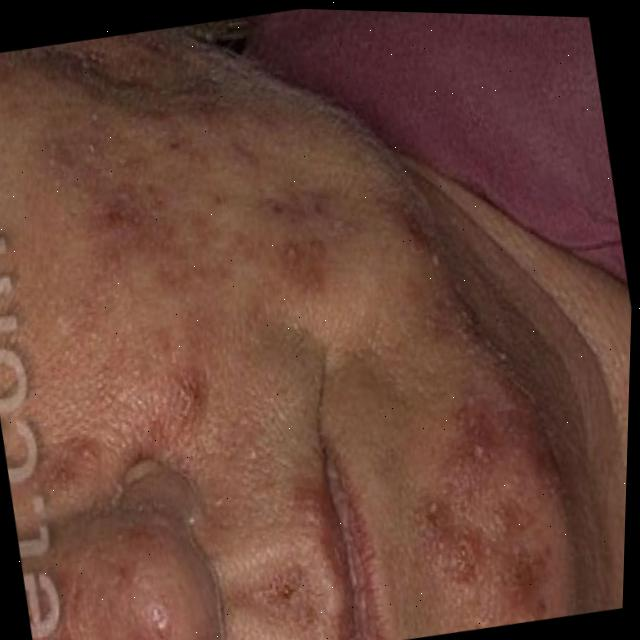Rosacea: (405, 383, 565, 618), (252, 199, 353, 286), (260, 555, 328, 616)
